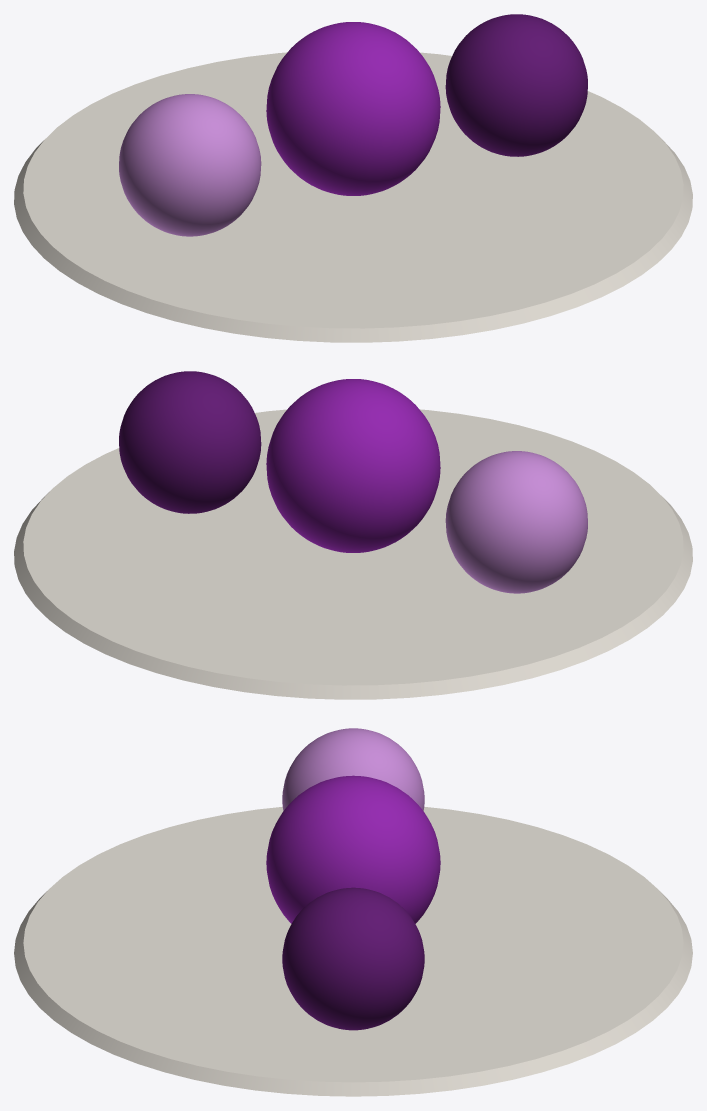
File: purple.glb
The picture shows the model from 3 angles, top to bottom: view 1: azimuth 30°, elevation 25°; view 2: azimuth 150°, elevation 25°; view 3: azimuth 270°, elevation 25°; orthographic projection.
Parts seen in each view (by area): view 1: base, normal, light, dark; view 2: base, normal, light, dark; view 3: base, normal, dark, light.
Part boxes in pixels (box(x1,y1,x2,y2)): base: box(14, 52, 692, 342); normal: box(266, 22, 440, 195); light: box(119, 94, 261, 236); dark: box(445, 14, 587, 156); base: box(14, 409, 692, 699); normal: box(266, 379, 440, 552); light: box(445, 451, 587, 593); dark: box(119, 371, 261, 513); base: box(14, 807, 692, 1096); normal: box(266, 775, 440, 923); dark: box(282, 887, 424, 1030); light: box(282, 728, 424, 810).
Bounding box in the file's own units: 3.6 × 0.99 × 3.6.
